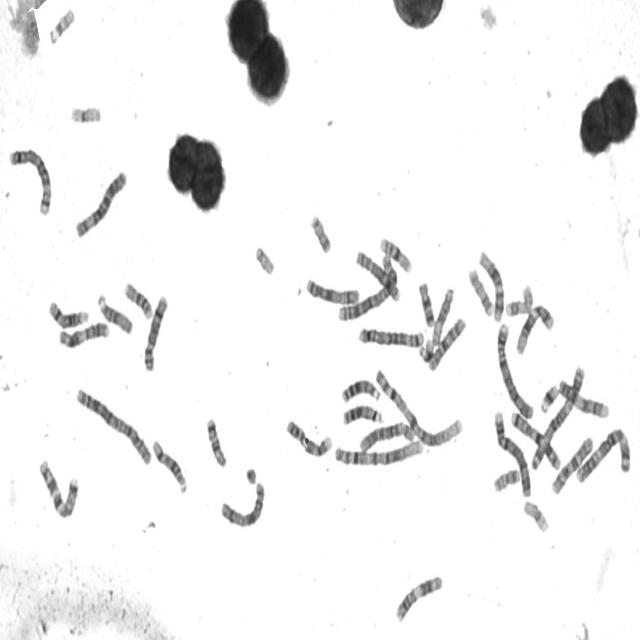A1: (372, 364, 464, 449), (331, 436, 425, 469)
A2: (73, 383, 153, 467), (336, 250, 398, 324)
A3: (529, 362, 586, 472), (574, 424, 632, 485)
B4: (494, 319, 535, 422), (492, 406, 532, 499)
B5: (6, 144, 54, 218), (356, 324, 425, 349)
C10: (549, 431, 595, 497), (426, 313, 467, 373)
C11: (393, 571, 444, 625), (56, 318, 111, 350)
C12: (514, 300, 556, 356), (477, 247, 506, 324)
C6: (73, 166, 128, 241), (356, 418, 416, 454)
C7: (508, 407, 563, 472), (36, 454, 80, 521)
C8: (354, 246, 401, 303), (142, 291, 169, 373)
C9: (556, 374, 611, 420), (283, 416, 334, 459)
D13: (339, 375, 382, 405), (340, 401, 384, 427)
D14: (150, 436, 189, 496), (46, 296, 90, 330)
D15: (95, 290, 134, 336), (430, 283, 456, 348)
E16: (377, 233, 414, 274), (122, 278, 154, 321)
E17: (466, 264, 494, 318), (504, 280, 534, 319)
E18: (204, 414, 228, 469), (416, 278, 436, 328)
F19: (521, 496, 550, 536), (68, 100, 102, 126)
F20: (308, 210, 332, 256), (492, 465, 521, 495)
G21: (538, 380, 560, 415), (417, 334, 434, 364)
G22: (48, 3, 76, 46), (253, 241, 276, 277)
X: (218, 477, 267, 531), (304, 274, 361, 306)
